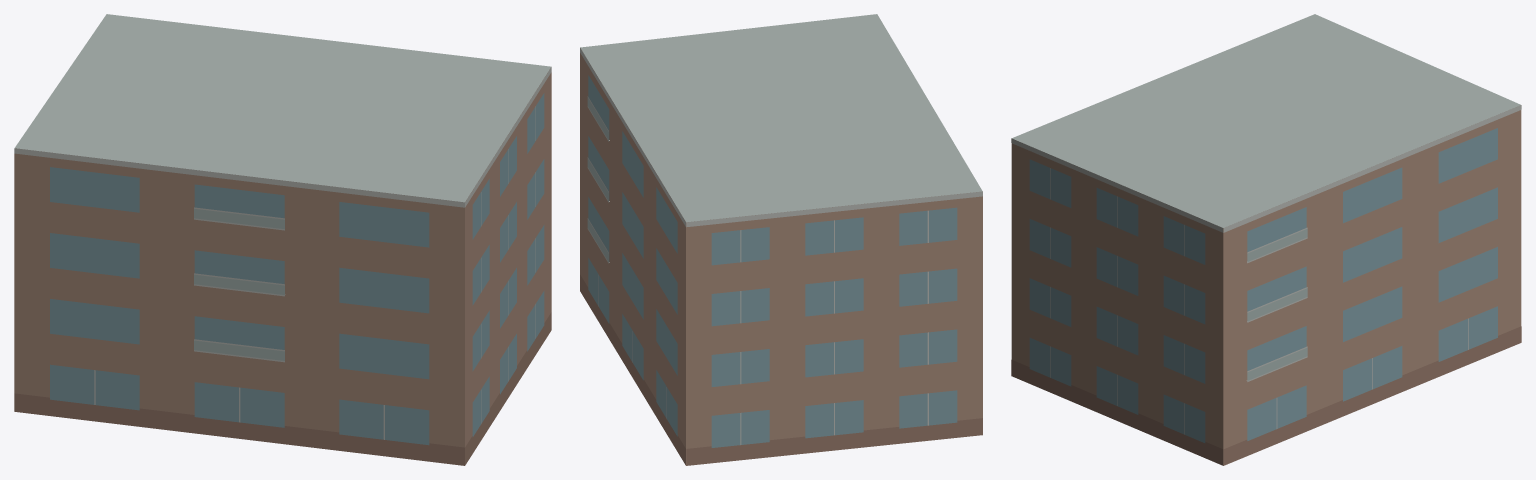
Rendered from survey-upis-32680197.glb.
3 renders of one model, left to right at view 1: azimuth 30°, elevation 25°; view 2: azimuth 150°, elevation 25°; view 3: azimuth 270°, elevation 25°, orthographic. The views are drawn at different scales.
Parts seen in each view (by area): view 1: survey-upis-32680197.tmp; view 2: survey-upis-32680197.tmp; view 3: survey-upis-32680197.tmp.
Boxes of the visible parts, left/top/right/bottom form: survey-upis-32680197.tmp: left=14, top=14, right=551, bottom=465; survey-upis-32680197.tmp: left=580, top=14, right=982, bottom=465; survey-upis-32680197.tmp: left=1011, top=14, right=1521, bottom=465.
Bounding box in the file's own units: 23.12 × 11.97 × 23.26.
